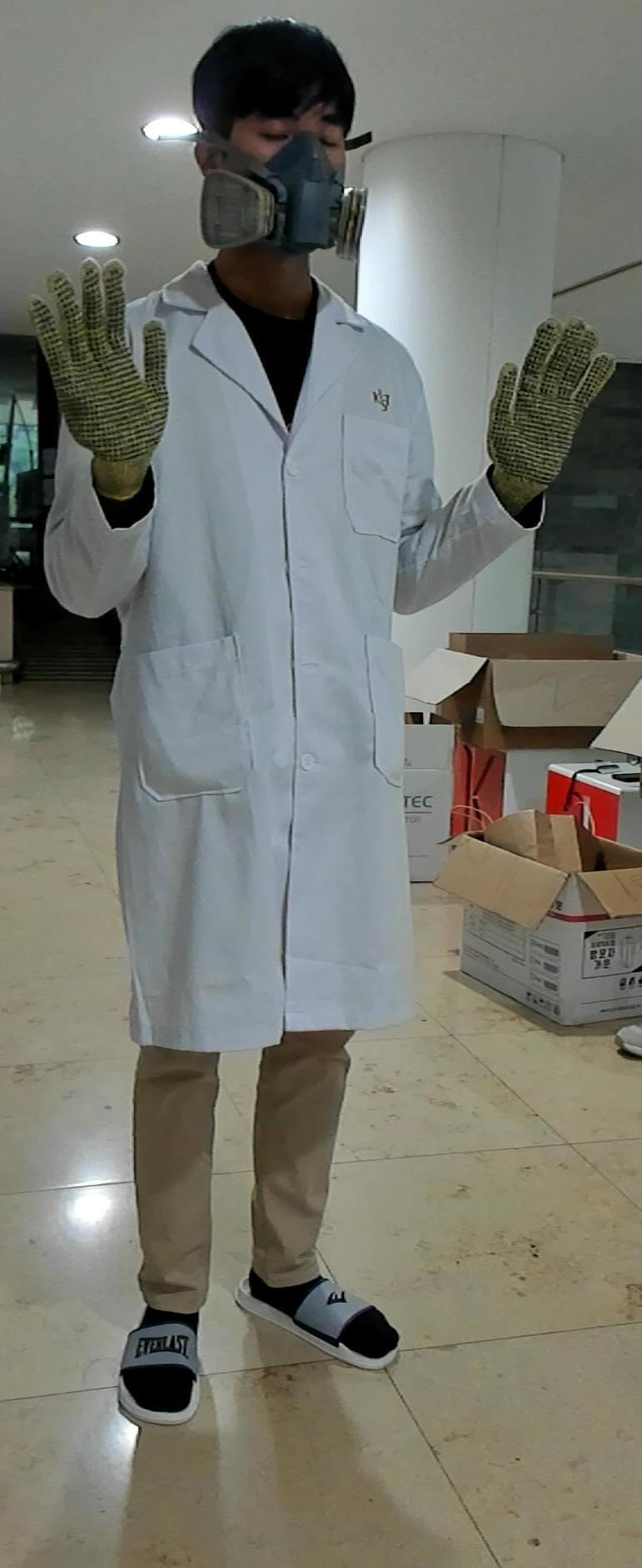Lab_coat: (42, 260, 546, 1056)
